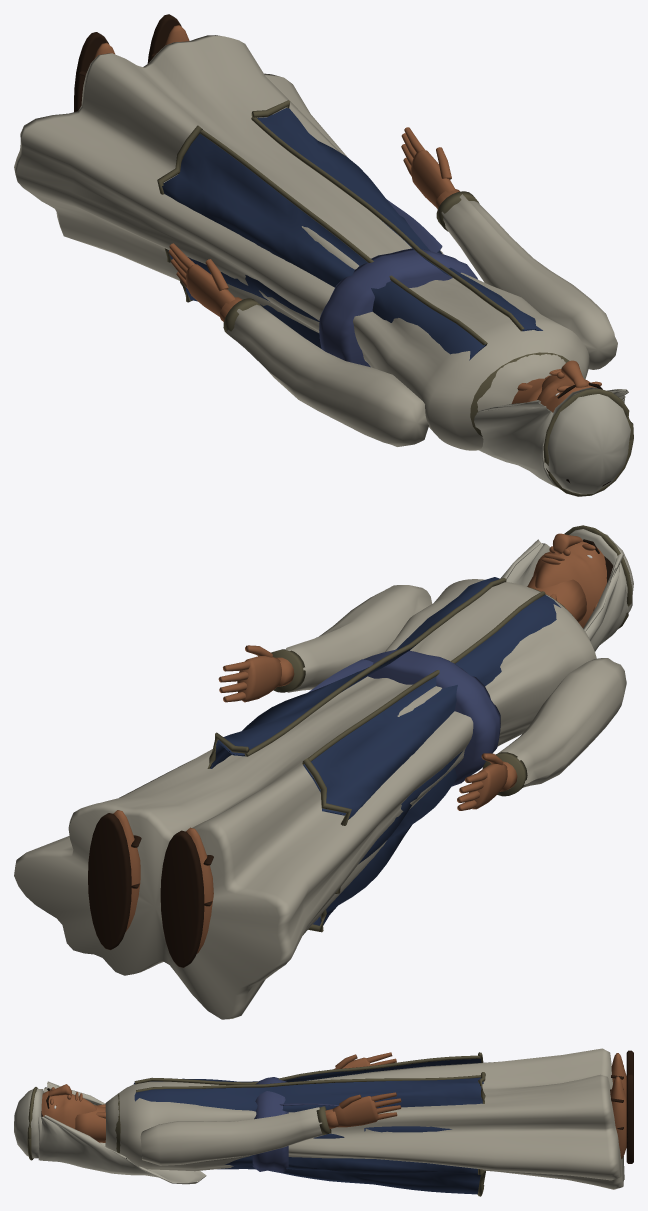
The model's file is SM_V3_Pilgrim_Woman_Young.obj.
3 views of the same model, one above another, from view 1: azimuth 30°, elevation 25°; view 2: azimuth 150°, elevation 25°; view 3: azimuth 270°, elevation 25° (orthographic). The views are drawn at different scales.
Visible parts, largest first — view 1: Tunic, Mantle, SleeveR, SleeveL, HeadCap, Sash, HeadCloth, MantleEdge-1, MantleEdge1, PalmL, PalmR, HeadBand (+3 smaller); view 2: Tunic, Mantle, SleeveR, SleeveL, Sash, SandalSoleR, SandalSoleL, HeadCloth, Head, MantleEdge-1, MantleEdge1, PalmL (+7 smaller); view 3: Tunic, Mantle, SleeveL, HeadCloth, Sash, HeadCap, MantleEdge1, MantleEdge-1, Head, PalmL, FootL, Neck (+5 smaller).
Boxes of the visible parts, x1=… form: Tunic: x1=14, y1=35, x2=589, y2=450; Mantle: x1=162, y1=108, x2=542, y2=360; SleeveR: x1=226, y1=304, x2=428, y2=446; SleeveL: x1=441, y1=194, x2=617, y2=369; HeadCap: x1=544, y1=387, x2=630, y2=494; Sash: x1=319, y1=248, x2=477, y2=367; HeadCloth: x1=474, y1=389, x2=628, y2=487; MantleEdge-1: x1=251, y1=116, x2=524, y2=331; MantleEdge1: x1=200, y1=130, x2=487, y2=345; PalmL: x1=411, y1=150, x2=455, y2=206; PalmR: x1=186, y1=264, x2=235, y2=316; HeadBand: x1=543, y1=388, x2=633, y2=496; Tunic: x1=14, y1=579, x2=596, y2=1019; Mantle: x1=210, y1=577, x2=560, y2=925; SleeveR: x1=498, y1=658, x2=626, y2=787; SleeveL: x1=285, y1=585, x2=432, y2=692; Sash: x1=364, y1=649, x2=500, y2=786; SandalSoleR: x1=160, y1=830, x2=204, y2=967; SandalSoleL: x1=88, y1=813, x2=131, y2=949; HeadCloth: x1=500, y1=539, x2=626, y2=651; Head: x1=533, y1=540, x2=606, y2=628; MantleEdge-1: x1=244, y1=578, x2=506, y2=756; MantleEdge1: x1=302, y1=591, x2=545, y2=764; PalmL: x1=237, y1=656, x2=281, y2=702; Tunic: x1=105, y1=1048, x2=624, y2=1189; Mantle: x1=134, y1=1059, x2=483, y2=1194; SleeveL: x1=140, y1=1107, x2=322, y2=1165; HeadCloth: x1=38, y1=1081, x2=206, y2=1184; Sash: x1=252, y1=1077, x2=288, y2=1173; HeadCap: x1=14, y1=1088, x2=43, y2=1158; MantleEdge1: x1=134, y1=1055, x2=480, y2=1084; MantleEdge-1: x1=136, y1=1075, x2=480, y2=1092; Head: x1=41, y1=1090, x2=96, y2=1128; PalmL: x1=332, y1=1096, x2=378, y2=1127; FootL: x1=610, y1=1076, x2=626, y2=1158; Neck: x1=75, y1=1105, x2=105, y2=1142.
Bounding box in the file's own units: 64.07 × 42.64 × 179.
